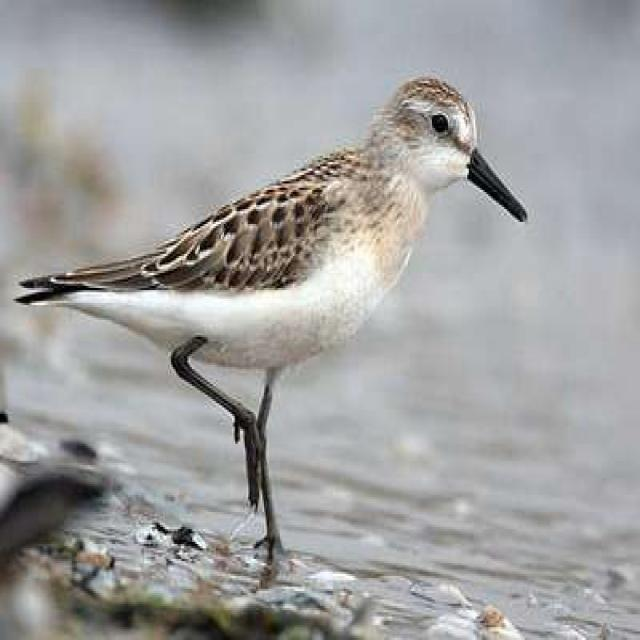sandpiper: (18, 77, 528, 561)
